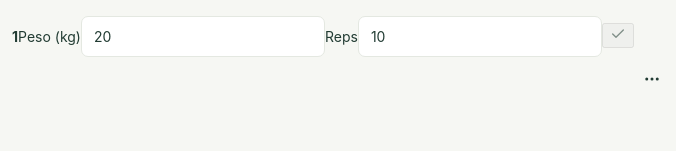
Test: set waits for draft hydration before accepting input
Replace the text in the field named "Peso serie 1" with "99" at (203, 36), box top-left (81, 16), bottom-right (325, 57)
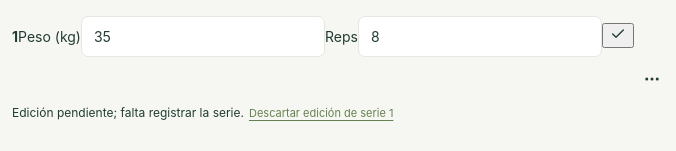
Expected: the field named "Peso serie 1" is enabled, top-left (81, 16), bottom-right (325, 57)
Expected: the field named "Peso serie 1" holds "35", top-left (81, 16), bottom-right (325, 57)
